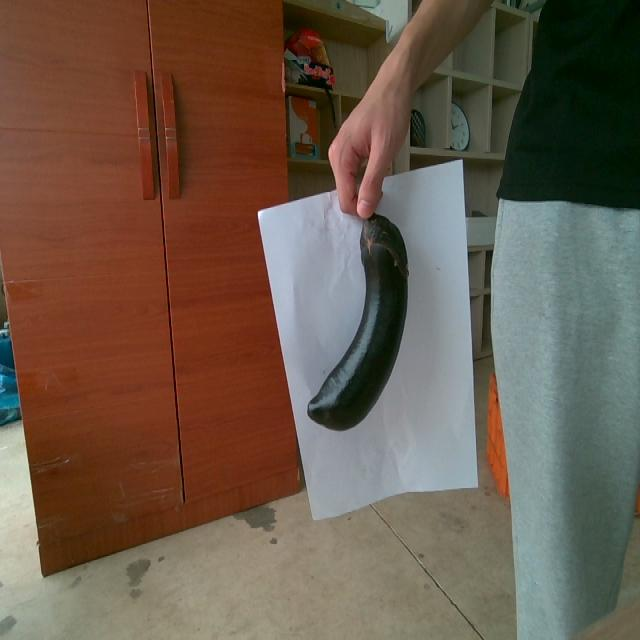Egg plant: (308, 215, 408, 429)
